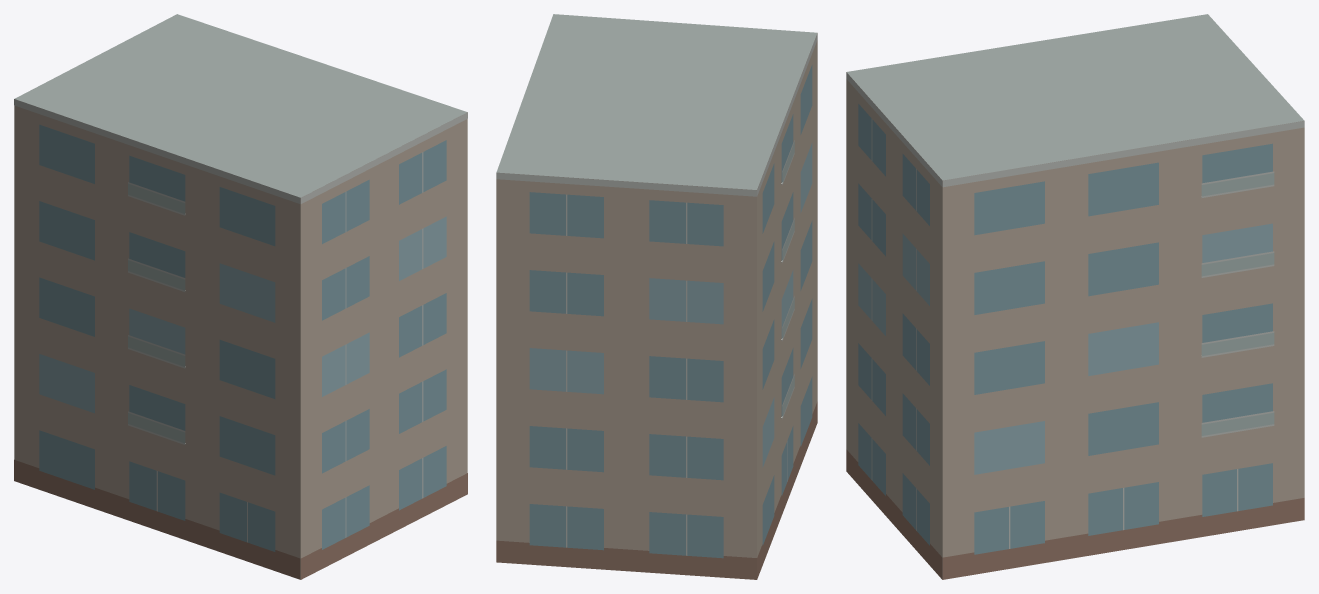
Rendered from survey-upis-32857772.glb.
The picture shows the model from 3 angles, left to right: view 1: azimuth 30°, elevation 25°; view 2: azimuth 150°, elevation 25°; view 3: azimuth 270°, elevation 25°; orthographic projection. The views are drawn at different scales.
Visible parts, largest first — view 1: survey-upis-32857772.tmp; view 2: survey-upis-32857772.tmp; view 3: survey-upis-32857772.tmp.
Part boxes in pixels (x1,y1,x2,y2): survey-upis-32857772.tmp: (14, 14, 467, 579); survey-upis-32857772.tmp: (496, 14, 817, 579); survey-upis-32857772.tmp: (846, 14, 1304, 579).
Size of the model in its own units: 12.8 by 14.3 by 14.88.
